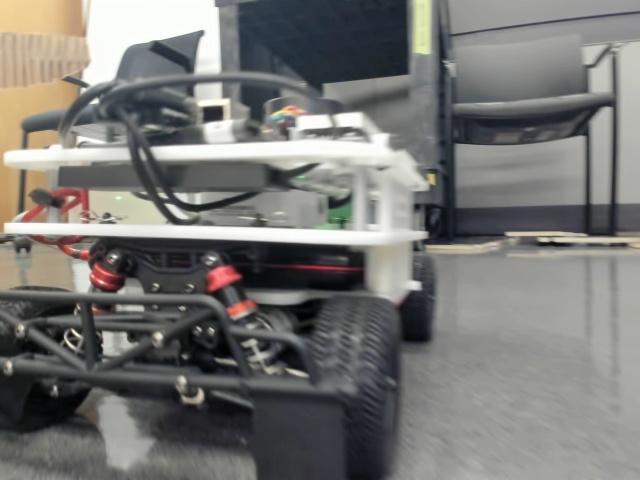Car: (2, 70, 436, 474)
